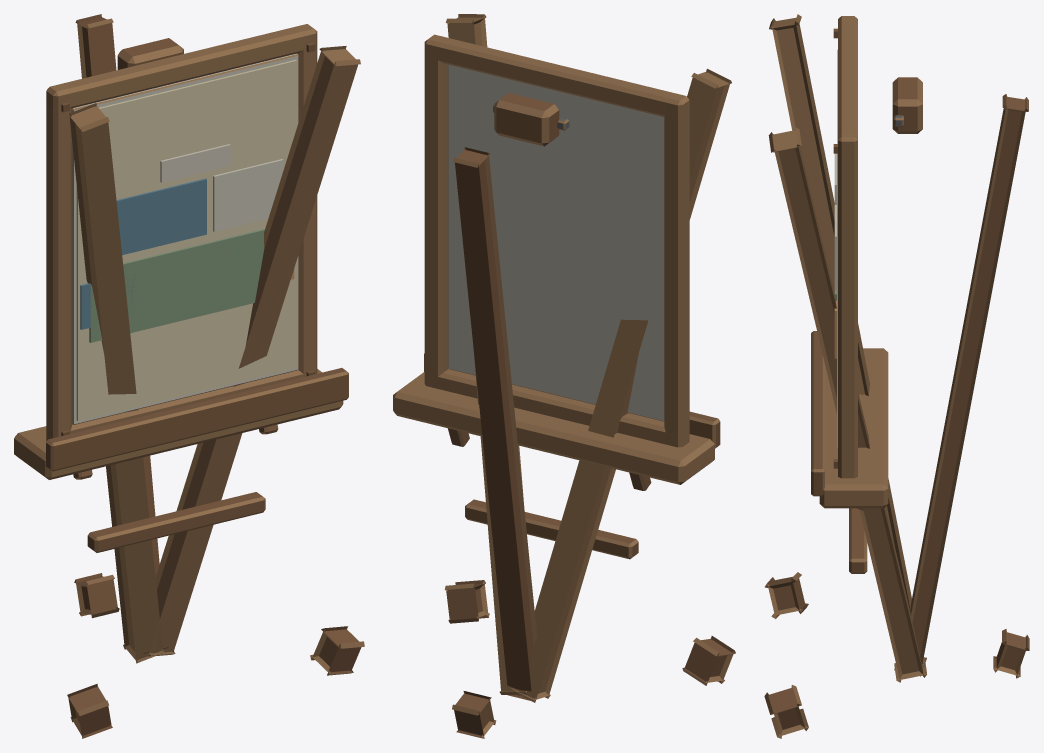
The model's file is 0-20261016-1900-ev016-r03-art-easel.fbx.
3 views of the same model, side by side, from view 1: azimuth 30°, elevation 25°; view 2: azimuth 150°, elevation 25°; view 3: azimuth 270°, elevation 25° (orthographic). The views are drawn at different scales.
Parts seen in each view (by area): view 1: SW_Art_Easel; view 2: SW_Art_Easel; view 3: SW_Art_Easel.
Boxes of the visible parts, x1,y1,x2,y2 form: SW_Art_Easel: (14, 14, 364, 738); SW_Art_Easel: (393, 14, 735, 738); SW_Art_Easel: (764, 14, 1029, 738).
Bounding box in the file's own units: 82 × 164 × 65.56.
